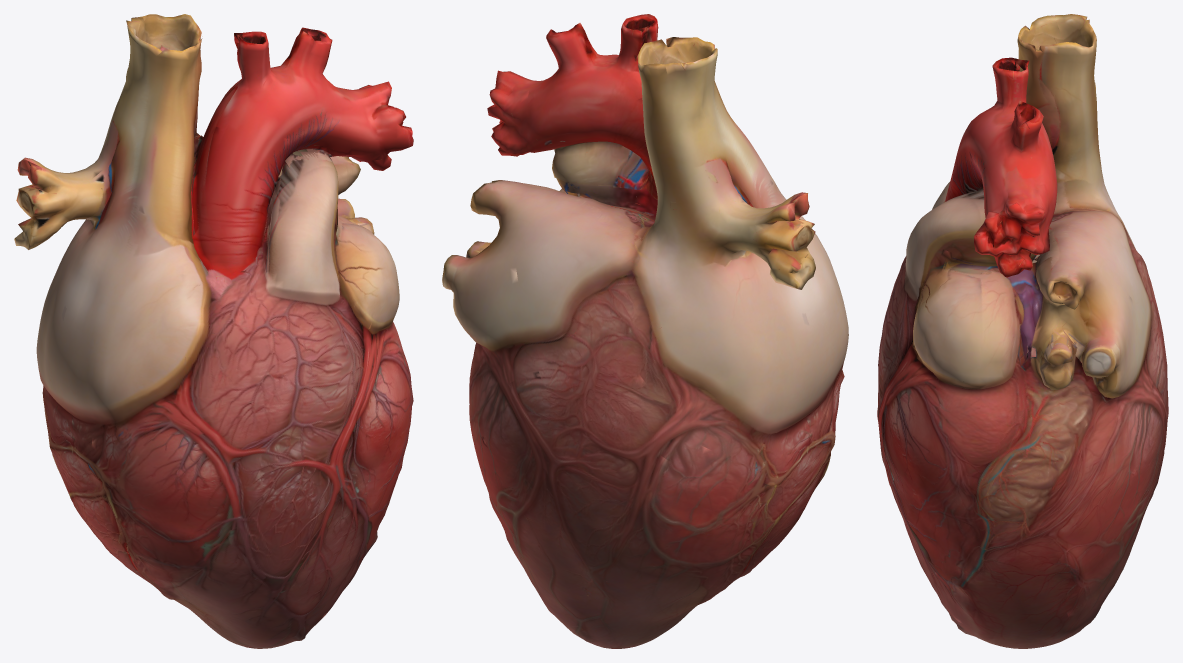
Rendered from heart.glb.
The picture shows the model from 3 angles, left to right: view 1: azimuth 30°, elevation 25°; view 2: azimuth 150°, elevation 25°; view 3: azimuth 270°, elevation 25°; orthographic projection. The views are drawn at different scales.
Size of the model in its own units: 0.9237 by 1.59 by 0.7199.
Materials: 1 (1 with a texture image).
